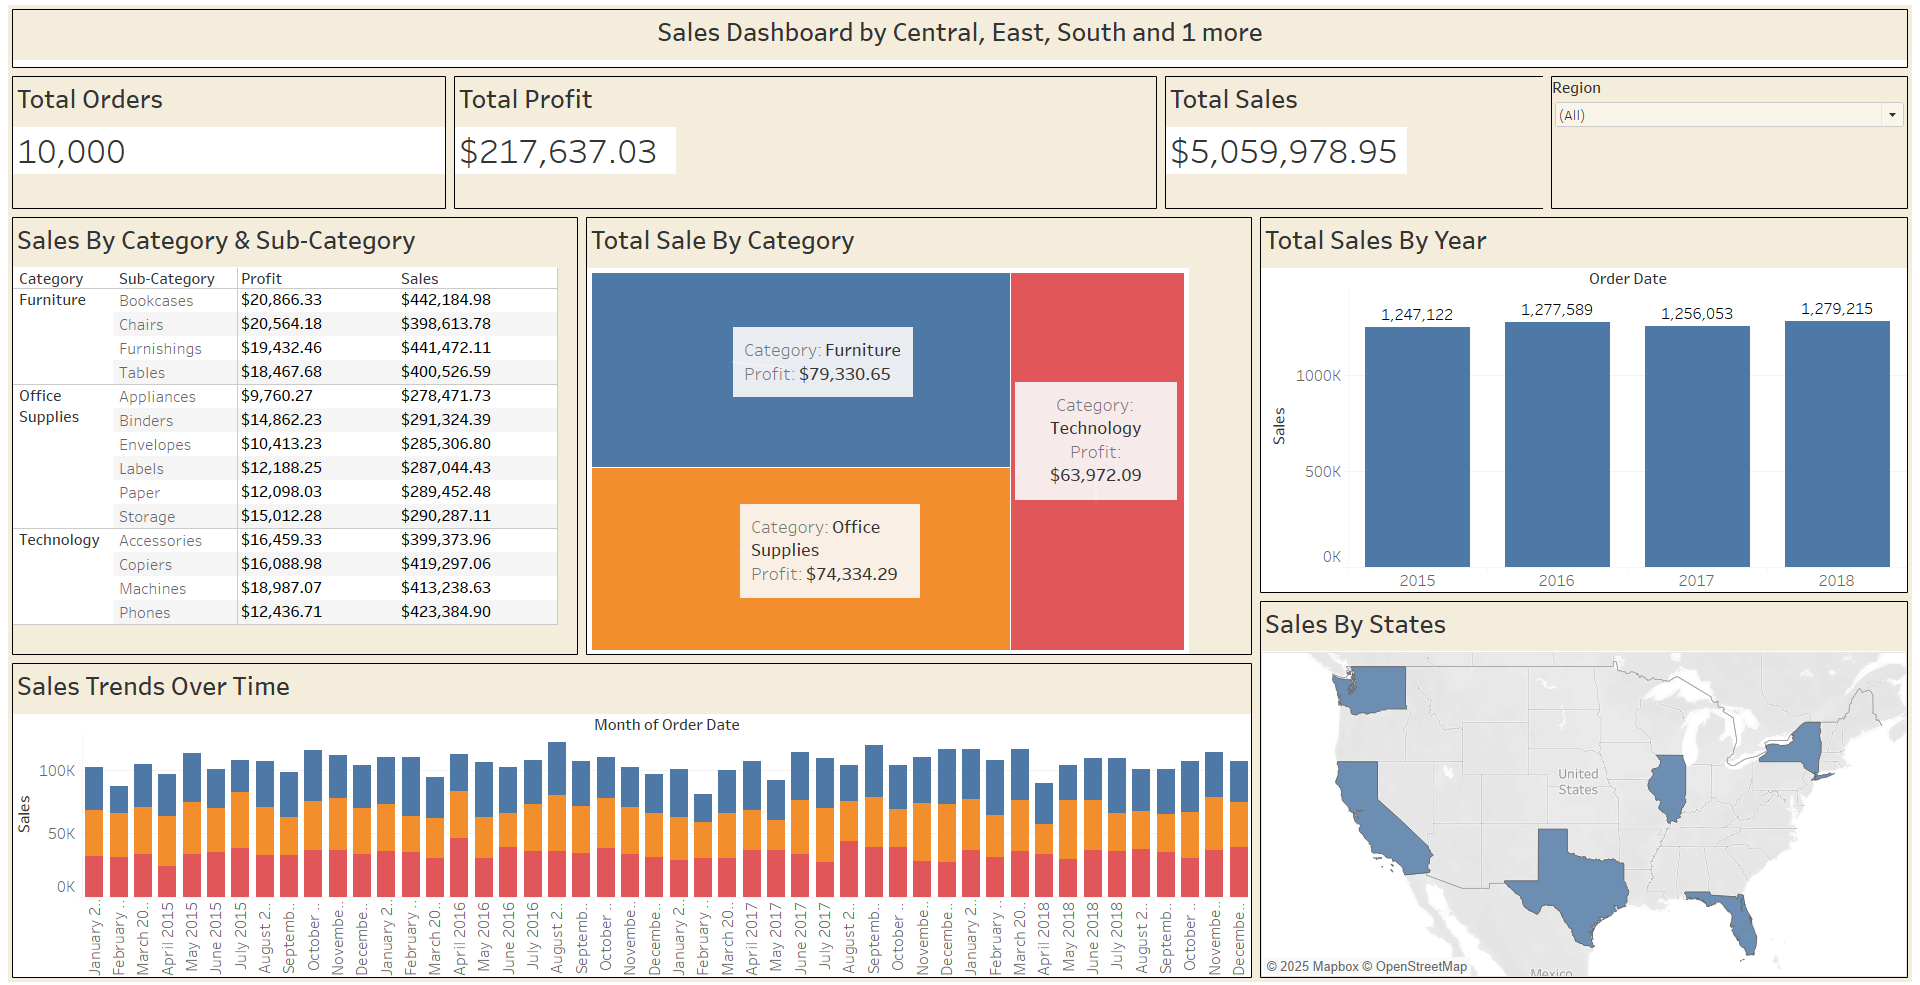

The page's visual inventory and layout, read from the dashboard file:
{"tool":"tableau","page":{"name":"Dashboard 2","canvas":[1000,1000],"units":"permille","ordinal":0},"visuals":[{"type":"worksheet","title":"Sheet 7","mark":"Automatic","box":[4.2,9.3,991.5,67.4]},{"type":"worksheet","title":"Sheet 4","mark":"Text","box":[4.2,76.7,230.4,141.6]},{"type":"worksheet","title":"Sheet 2","mark":"Text","box":[234.6,76.7,370,141.6]},{"type":"worksheet","title":"Sheet 1","mark":"Text","box":[604.6,76.7,201.3,141.6]},{"type":"filter","title":"Sheet 7","param":"[federated.1yv4ktf0sn2ner13srlj4027ebvg].[none:Region:nk]","box":[805.9,76.7,189.8,141.6]},{"type":"worksheet","title":"Sheet 3","mark":"Automatic","rows":["Category","Sub-Category"],"box":[4.2,218.3,298.7,448.3]},{"type":"worksheet","title":"Sheet 10","mark":"Automatic","box":[302.9,218.3,351.1,448.3]},{"type":"worksheet","title":"Sheet 9","mark":"Bar","rows":["Sales"],"cols":["Order Date"],"box":[654,218.3,341.7,385.6]},{"type":"worksheet","title":"Sheet 5","mark":"Multipolygon","box":[654,603.9,341.7,386.8]},{"type":"worksheet","title":"Sheet 6","mark":"Bar","rows":["Sales"],"cols":["Order Date"],"box":[4.2,666.6,649.8,324.1]}]}

Visuals, with their boxes on the dashboard's canvas, which has no fixed pixel size, in thousandths of its width and height (x1, y1, x2, y2). These are canvas units, not pixel positions in the 1920x985 screenshot, which may show the page scaled, cropped or inside an application window:
"Sheet 7" worksheet: left=4, top=9, right=996, bottom=77
"Sheet 4" worksheet (Text marks): left=4, top=77, right=235, bottom=218
"Sheet 2" worksheet (Text marks): left=235, top=77, right=605, bottom=218
"Sheet 1" worksheet (Text marks): left=605, top=77, right=806, bottom=218
"Sheet 7" filter: left=806, top=77, right=996, bottom=218
"Sheet 3" worksheet: left=4, top=218, right=303, bottom=667
"Sheet 10" worksheet: left=303, top=218, right=654, bottom=667
"Sheet 9" worksheet (Bar marks): left=654, top=218, right=996, bottom=604
"Sheet 5" worksheet (Multipolygon marks): left=654, top=604, right=996, bottom=991
"Sheet 6" worksheet (Bar marks): left=4, top=667, right=654, bottom=991
